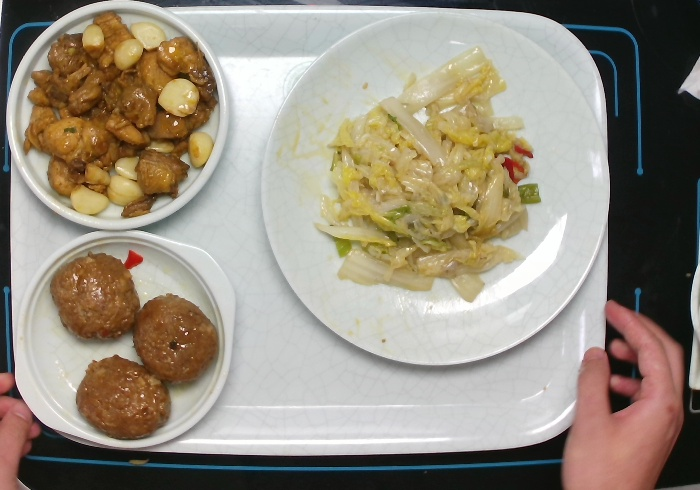JYsf-Da_Yuan_Pan: (258, 8, 613, 368)
JYsf-Shuang_Er_Pan: (12, 226, 239, 451)
JYsf-Xiao_Yuan_Pan: (3, 1, 232, 233)
